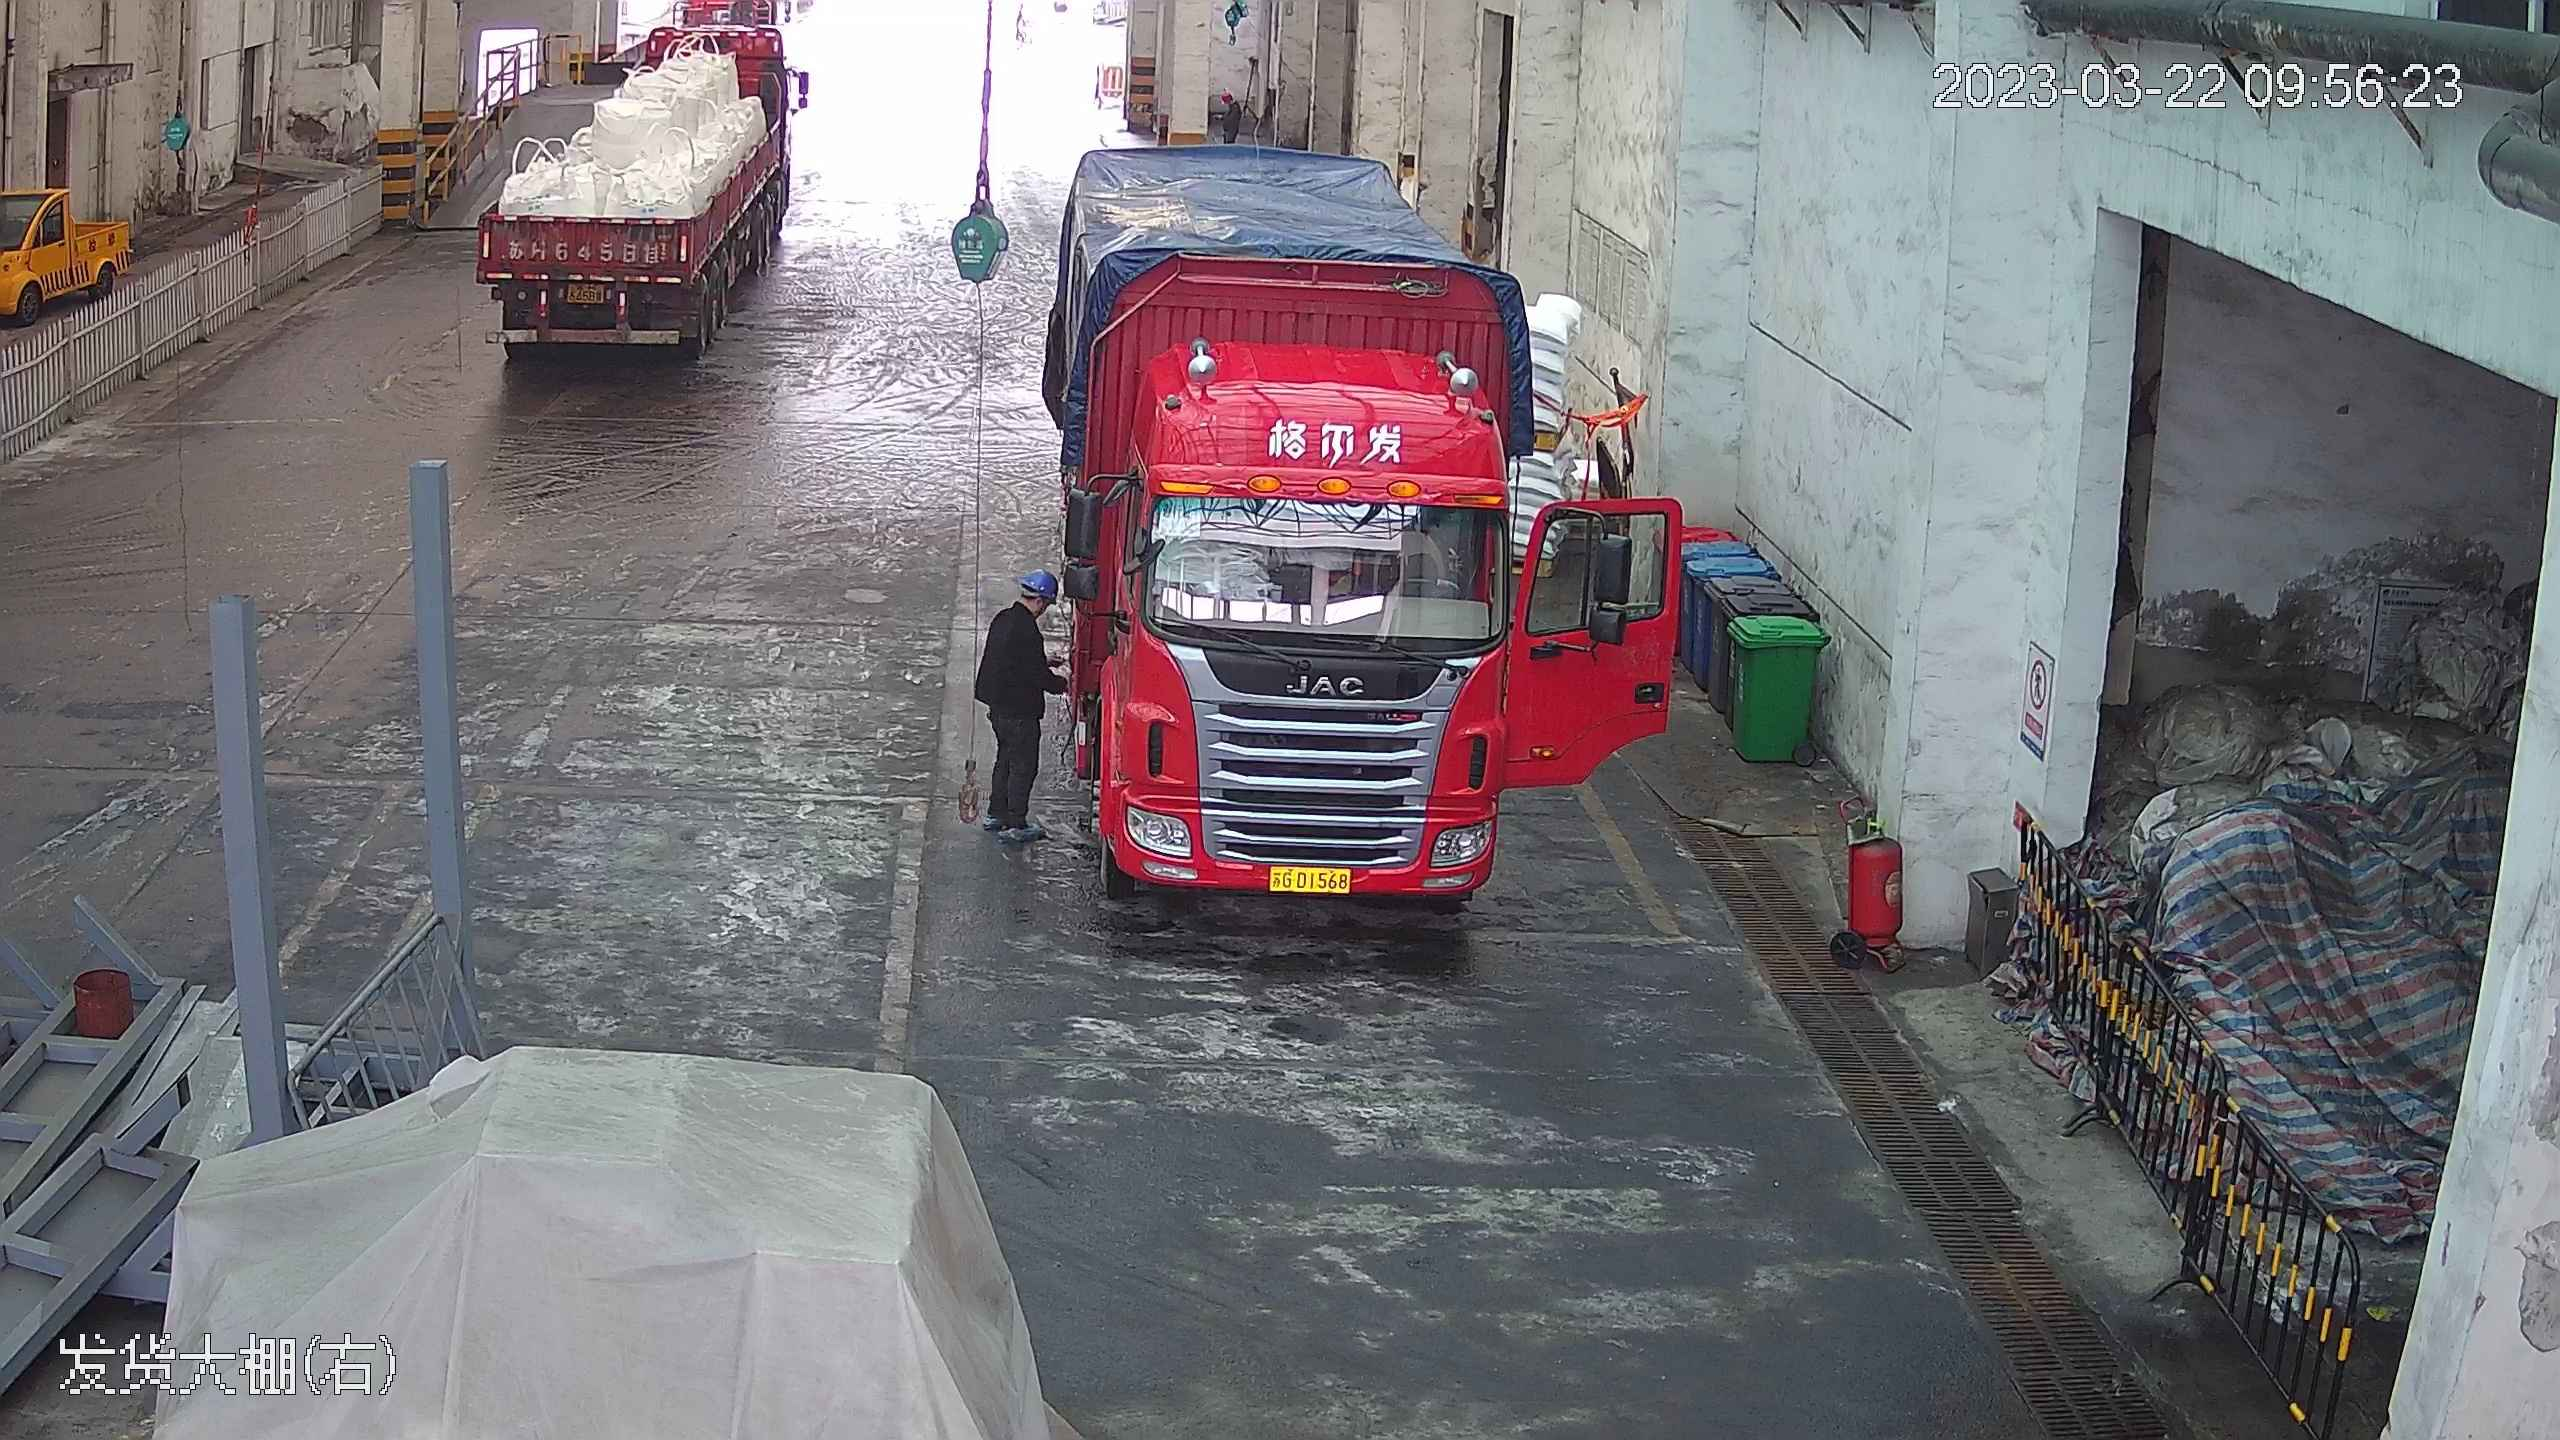head: (989, 566, 1063, 647), (1218, 91, 1241, 119)
helmet: (1022, 568, 1057, 602), (1221, 92, 1234, 105)
people: (973, 565, 1067, 833), (1218, 88, 1244, 144)
truck: (1016, 33, 1617, 921), (466, 6, 804, 351)
